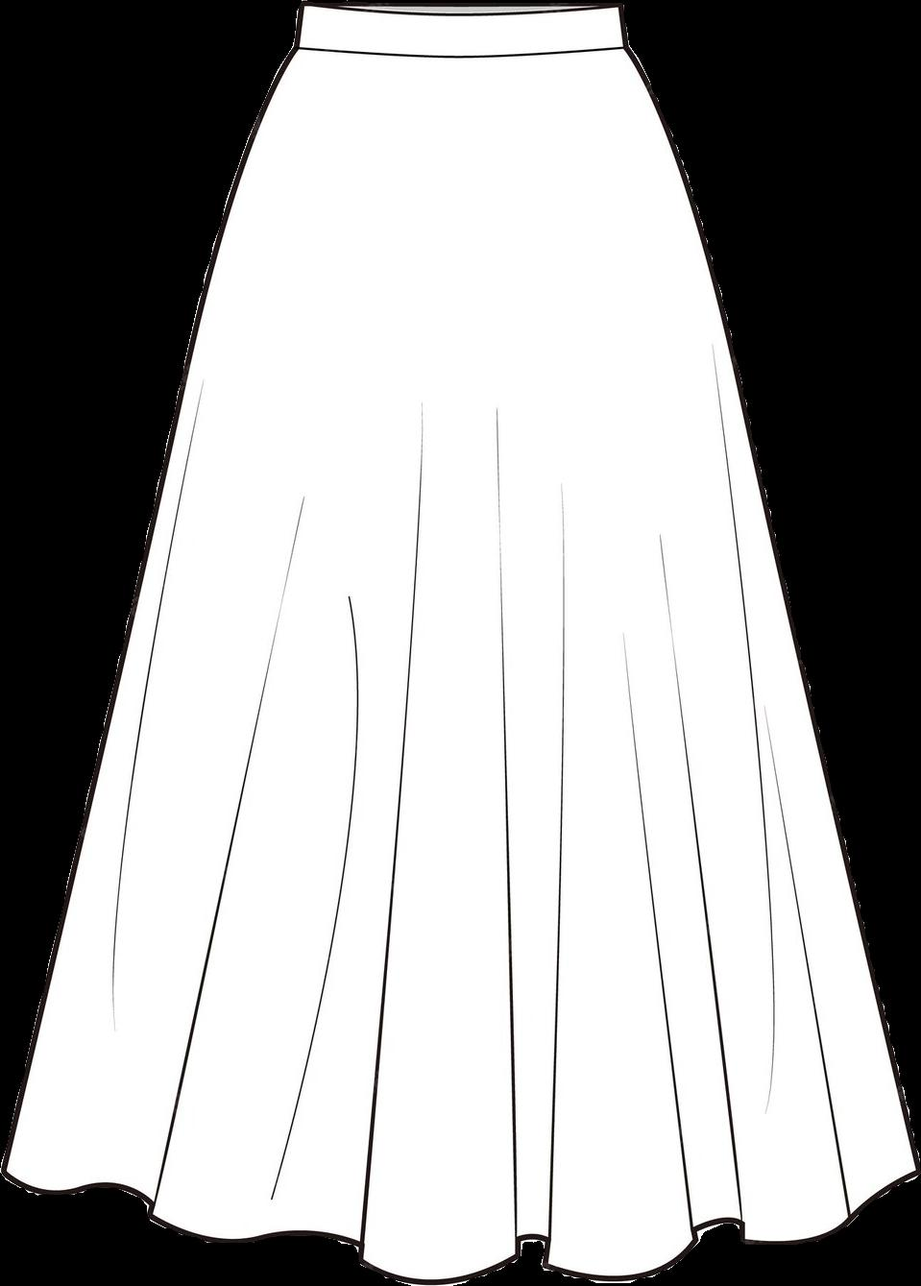Hemline: (0, 1158, 920, 1284)
Waistline: (287, 36, 625, 66), (299, 0, 623, 23)
